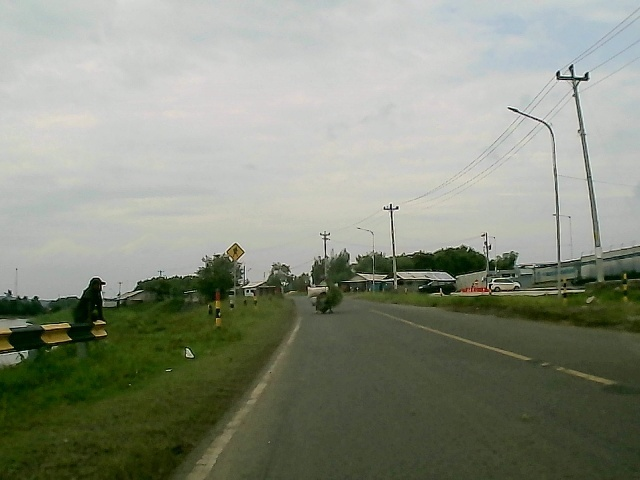Peringatan orang menyeberang: (226, 240, 246, 261)
